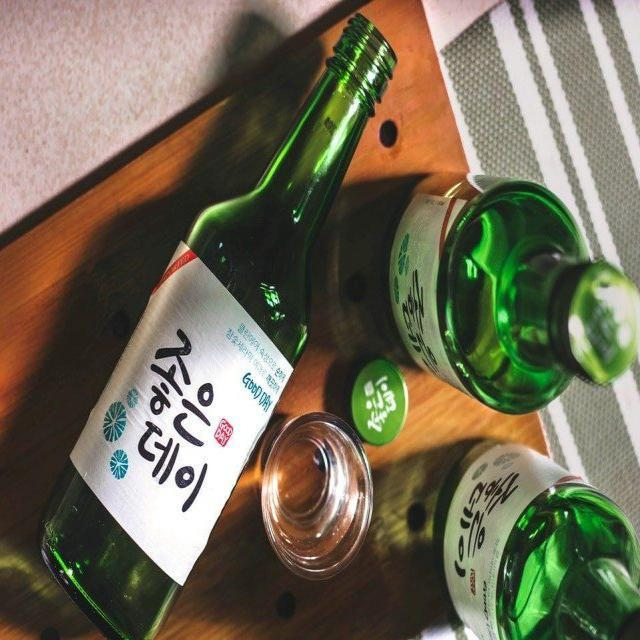soju-bottle: (37, 5, 406, 638), (385, 155, 640, 410), (441, 433, 640, 640)
